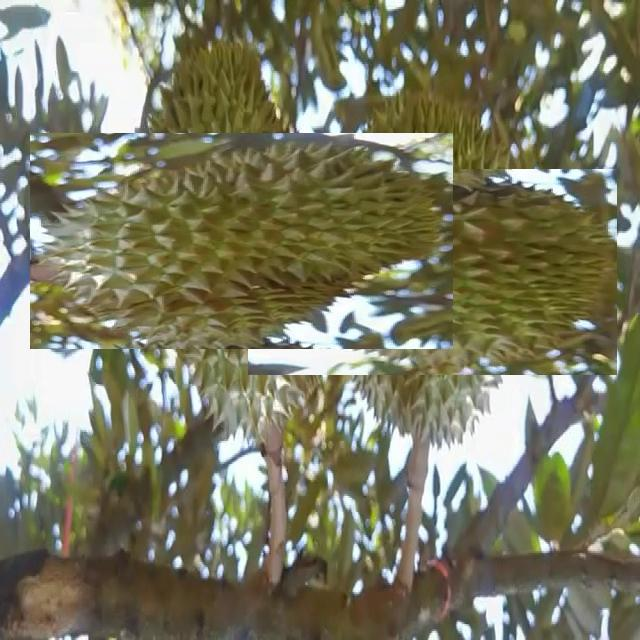durian: (82, 81, 402, 401), (289, 128, 577, 416)
